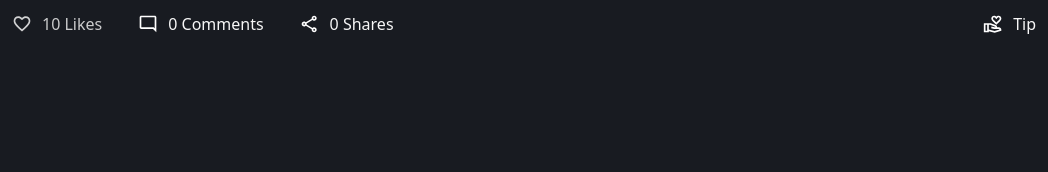
PostActions component › should toggle like on click (optimistic update)
The width and height of the screenshot is (1048, 172).
Click the button "10 Likes" at (57, 24), box 12,12 -> 102,36
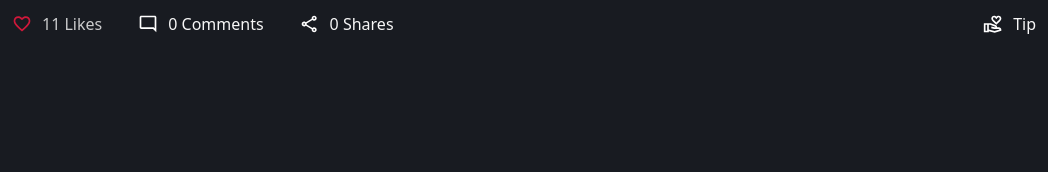
Check: the text "11 Likes" is shown, box 42,12 -> 102,36
